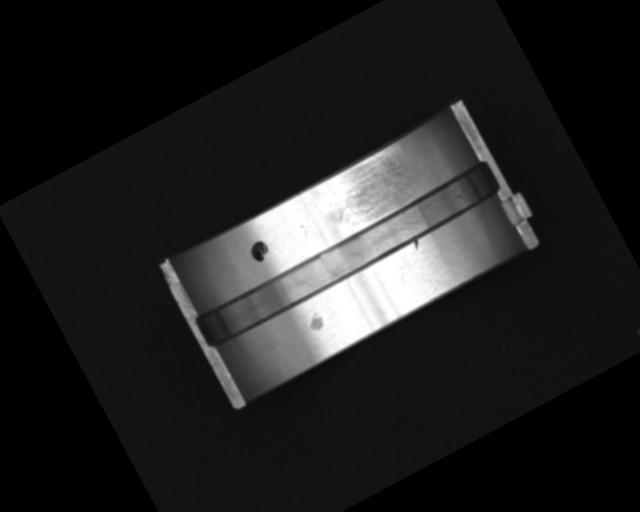blot: (246, 237, 272, 266)
bruise: (302, 308, 327, 335), (411, 238, 422, 252)
gap: (191, 158, 506, 350)
scratch: (311, 143, 423, 239)
